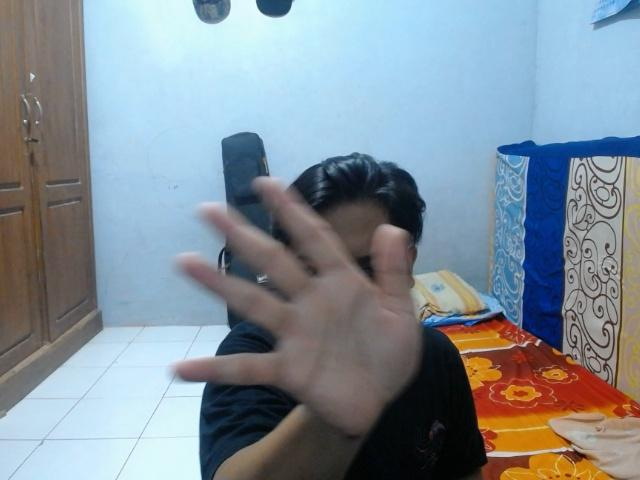Release: (161, 170, 428, 446)
